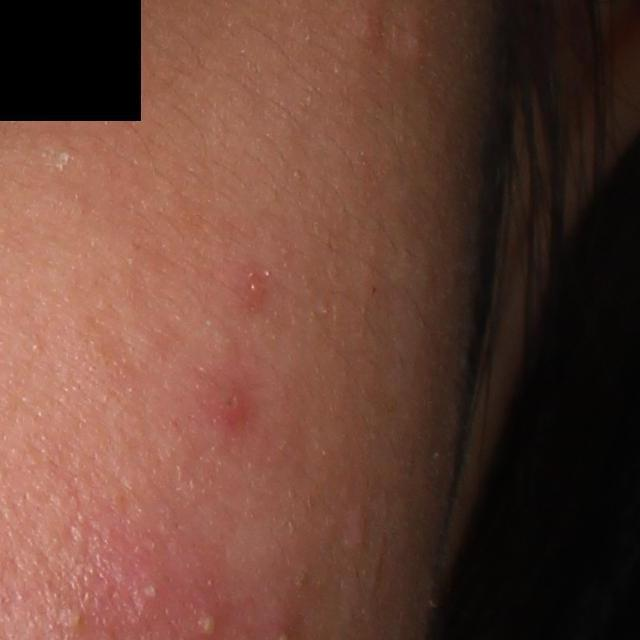papule: (197, 376, 254, 430), (352, 7, 388, 49)
pustule: (123, 566, 170, 617), (187, 600, 225, 639)
